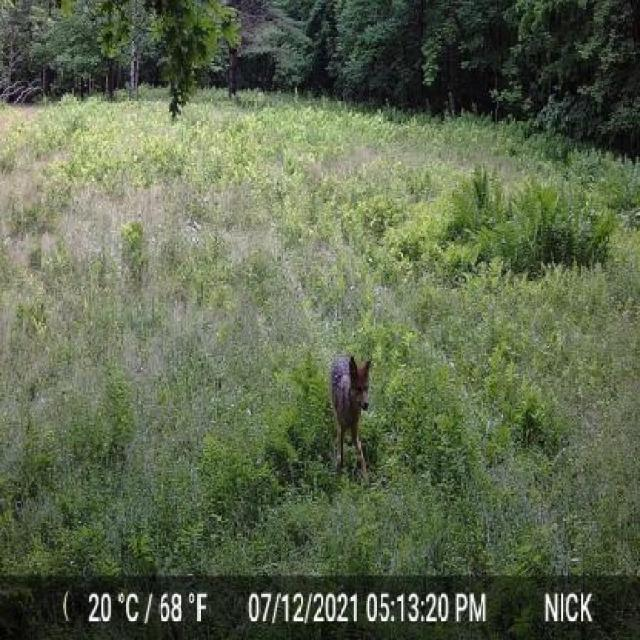Coyote: (326, 353, 376, 477)
